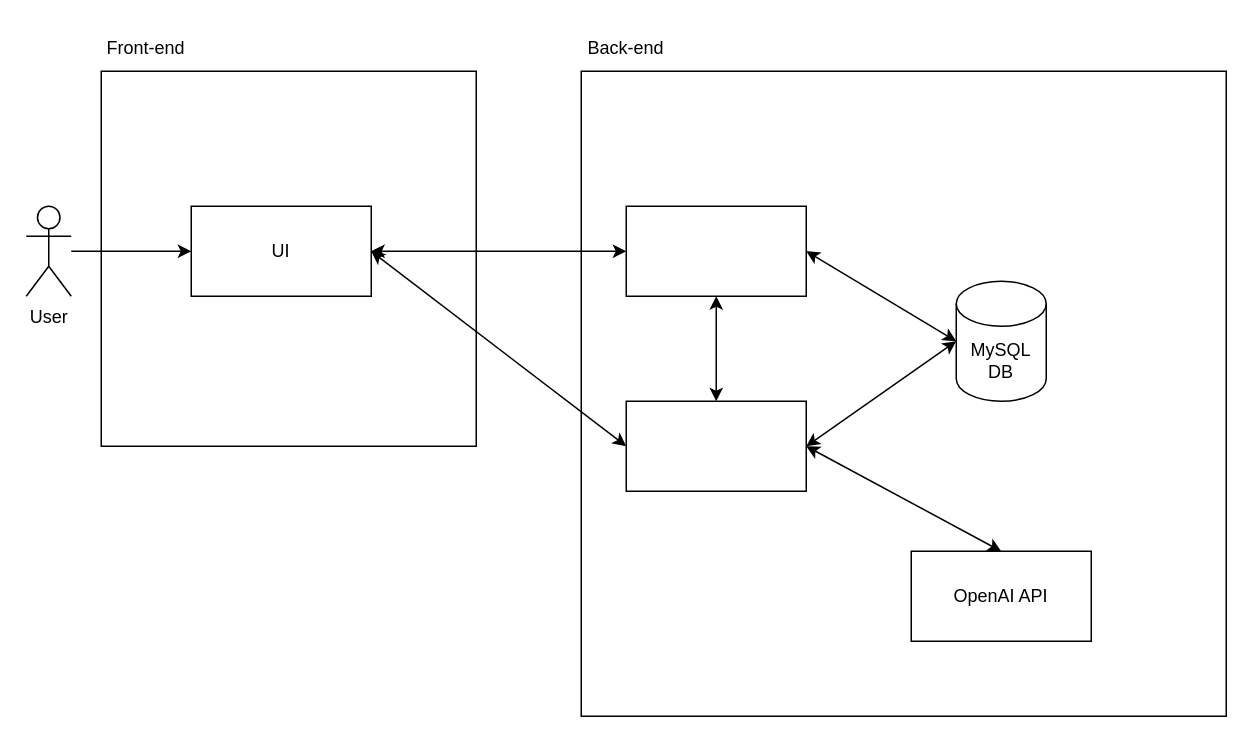
Image size: 1253x743. Some labels were removed from this diagram. Each missing label, with the centre of its shape:
AI API: the point at 715,445
Main API: the point at 715,250
